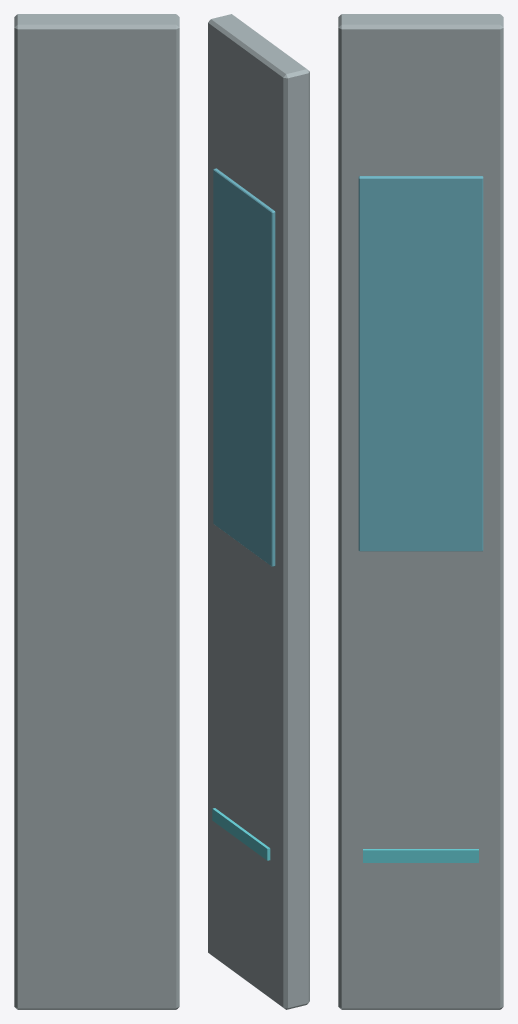
Rendered from door-leaf.glb.
The picture shows the model from 3 angles, left to right: view 1: azimuth 90°, elevation 25°; view 2: azimuth 210°, elevation 25°; view 3: azimuth 270°, elevation 25°; orthographic projection. The views are drawn at different scales.
Parts seen in each view (by area): view 1: Modern sliding leaf.001; view 2: Modern sliding leaf.001, Door observation glass.001, Cyan door guide.001; view 3: Modern sliding leaf.001, Door observation glass.001, Cyan door guide.001.
Part boxes in pixels (<box>): Modern sliding leaf.001: <box>14,14,179,1009</box>; Modern sliding leaf.001: <box>208,14,309,1009</box>; Door observation glass.001: <box>213,168,275,566</box>; Cyan door guide.001: <box>212,808,270,860</box>; Modern sliding leaf.001: <box>338,14,503,1009</box>; Door observation glass.001: <box>358,176,483,551</box>; Cyan door guide.001: <box>363,849,478,862</box>.
Size of the model in its own units: 0.0915 by 2.53 by 0.385.
